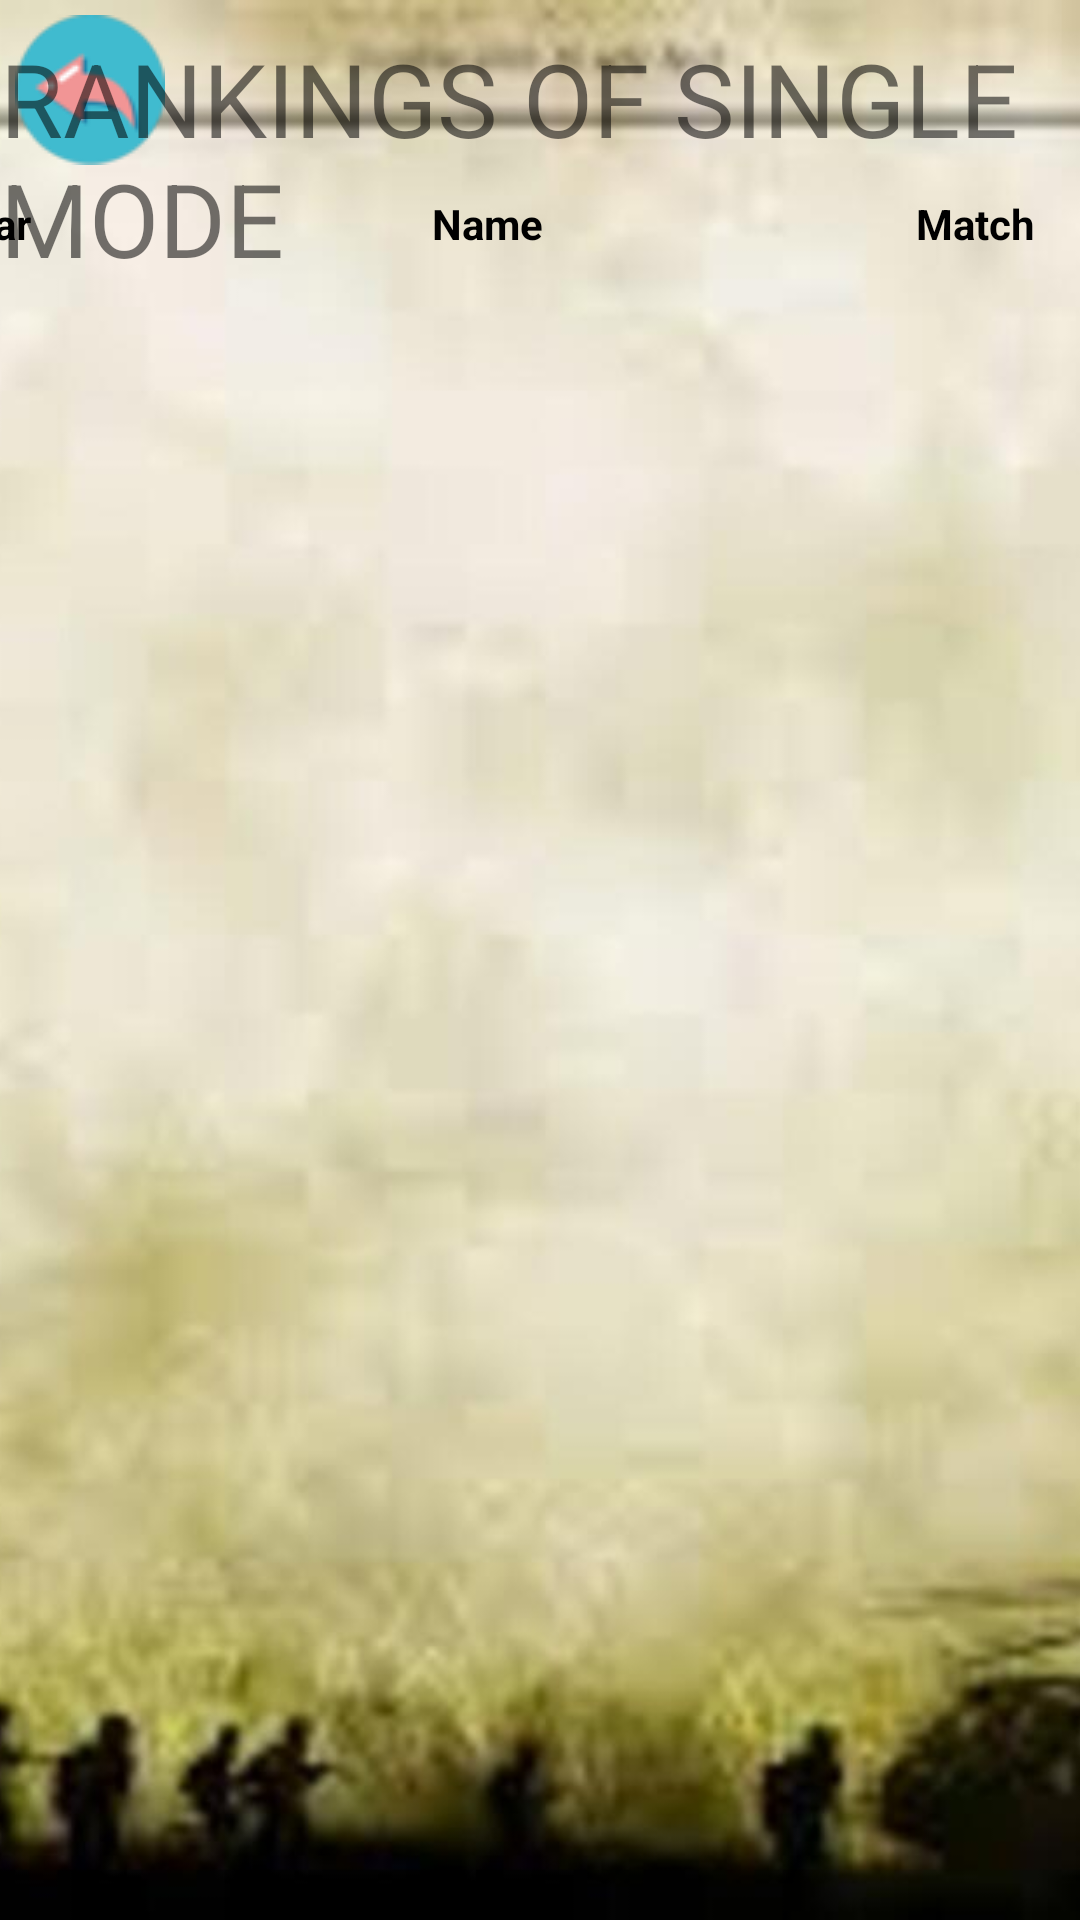

Screen size 1080×1920. Icon name, then its center in pixels as (x,y):
back: (90,90)
